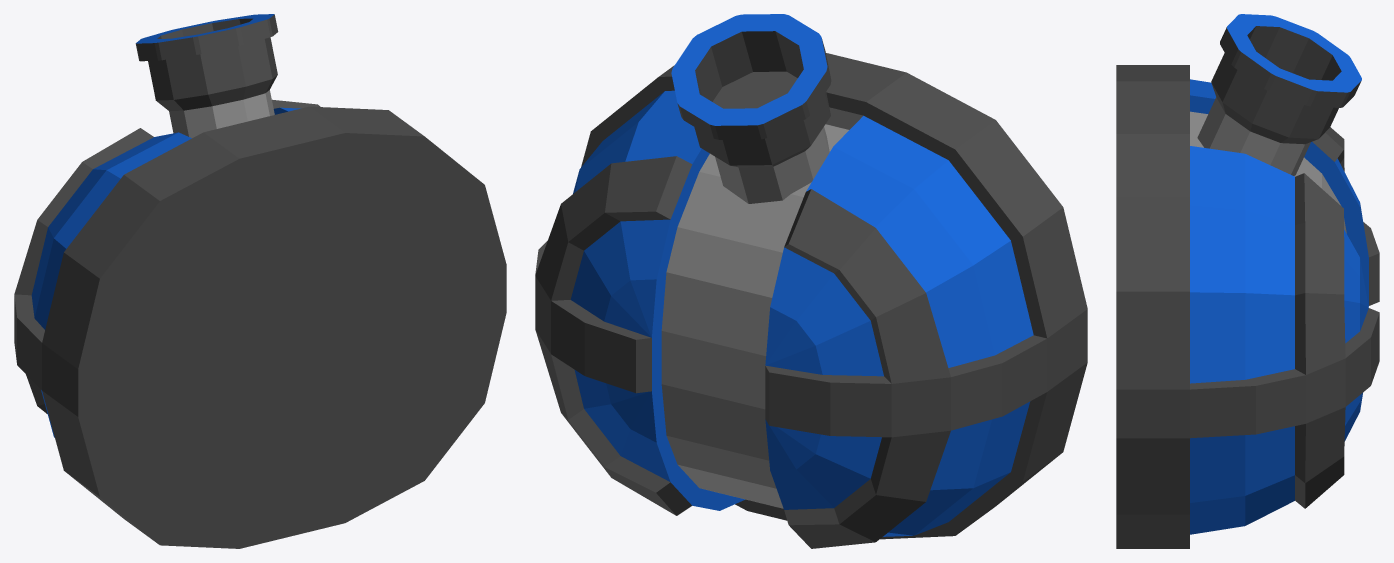
Rendered from Instrument_BombLauncher.fbx.
The picture shows the model from 3 angles, left to right: view 1: azimuth 30°, elevation 25°; view 2: azimuth 150°, elevation 25°; view 3: azimuth 270°, elevation 25°; orthographic projection. The views are drawn at different scales.
Parts seen in each view (by area): view 1: TurretBase, TurretBarrel; view 2: TurretBase, TurretBarrel; view 3: TurretBase, TurretBarrel.
Boxes of the visible parts, bbox=[...] form: TurretBase: bbox=[14, 99, 506, 548]; TurretBarrel: bbox=[135, 14, 278, 138]; TurretBase: bbox=[535, 53, 1087, 548]; TurretBarrel: bbox=[671, 14, 831, 203]; TurretBase: bbox=[1116, 65, 1379, 548]; TurretBarrel: bbox=[1197, 14, 1361, 175].
Size of the model in its own units: 1.07 by 1.12 by 0.5597.
